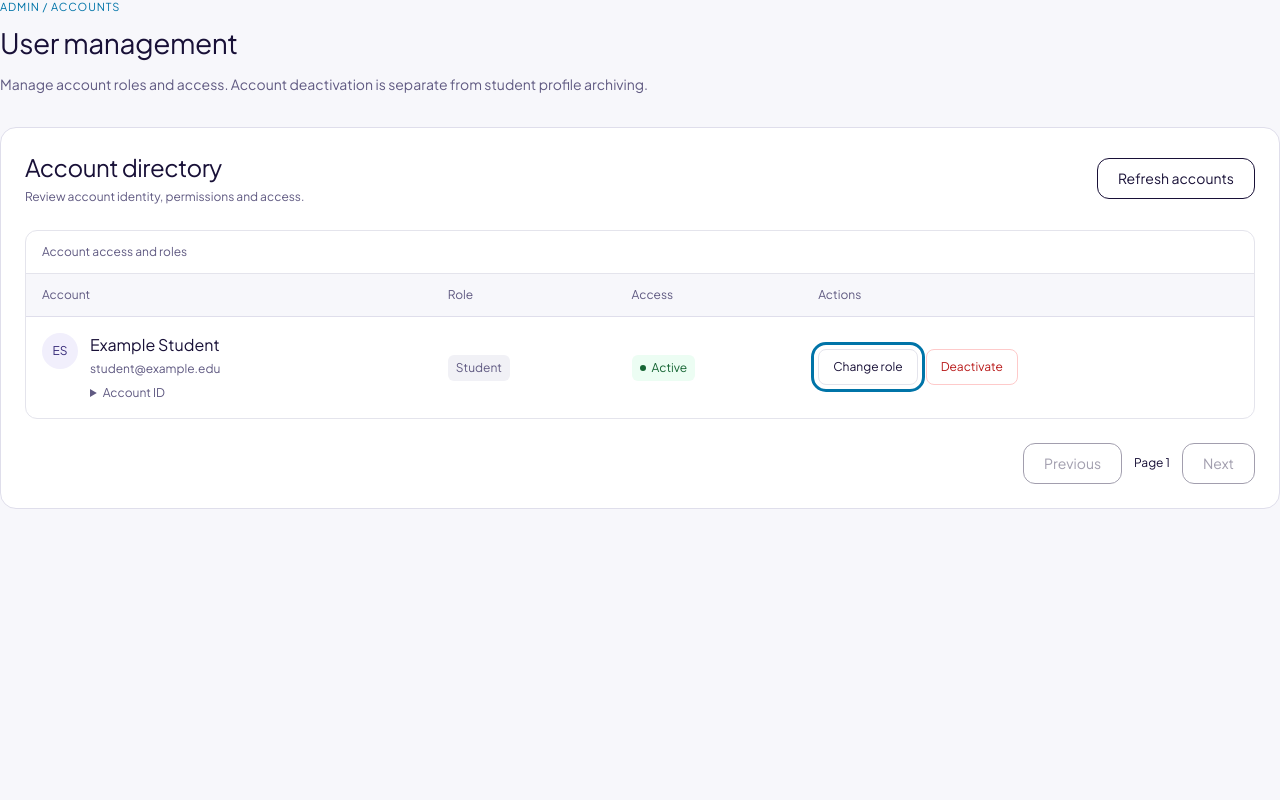
Test: saves a role and refreshes confirmed server state
Click the button "Change role" at (868, 367), box [818,349,918,385]
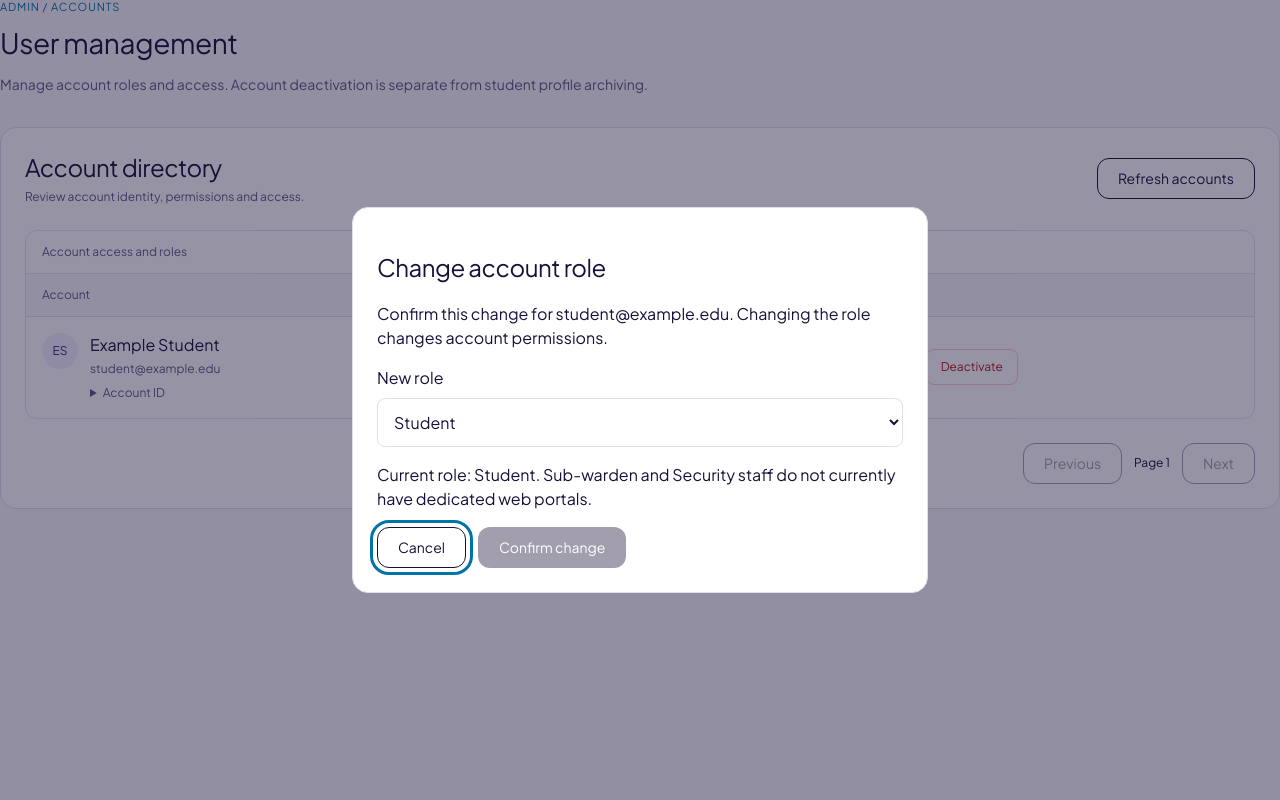
Select "Warden" in the dropdown labelled "New role" at (640, 422), box [377,398,903,447]
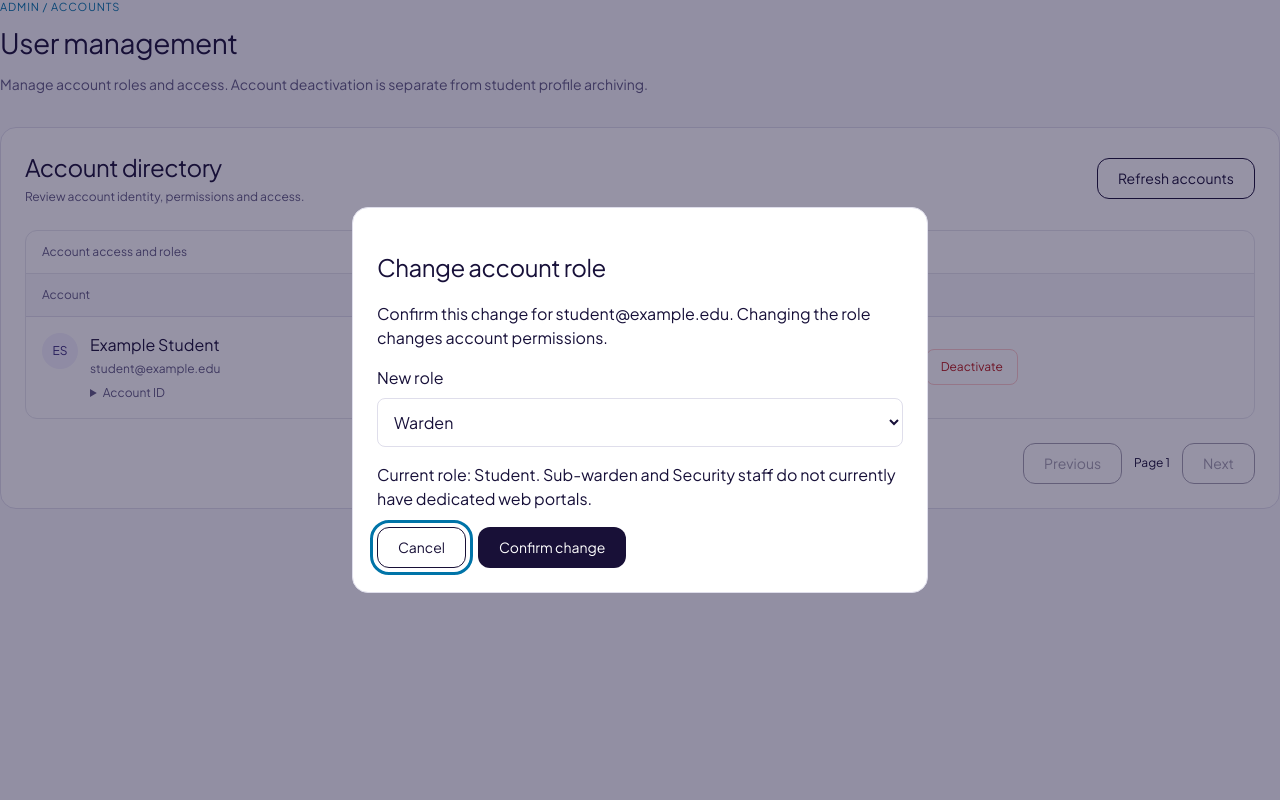
Click the button "Confirm change" at (552, 547), box [478,527,626,568]
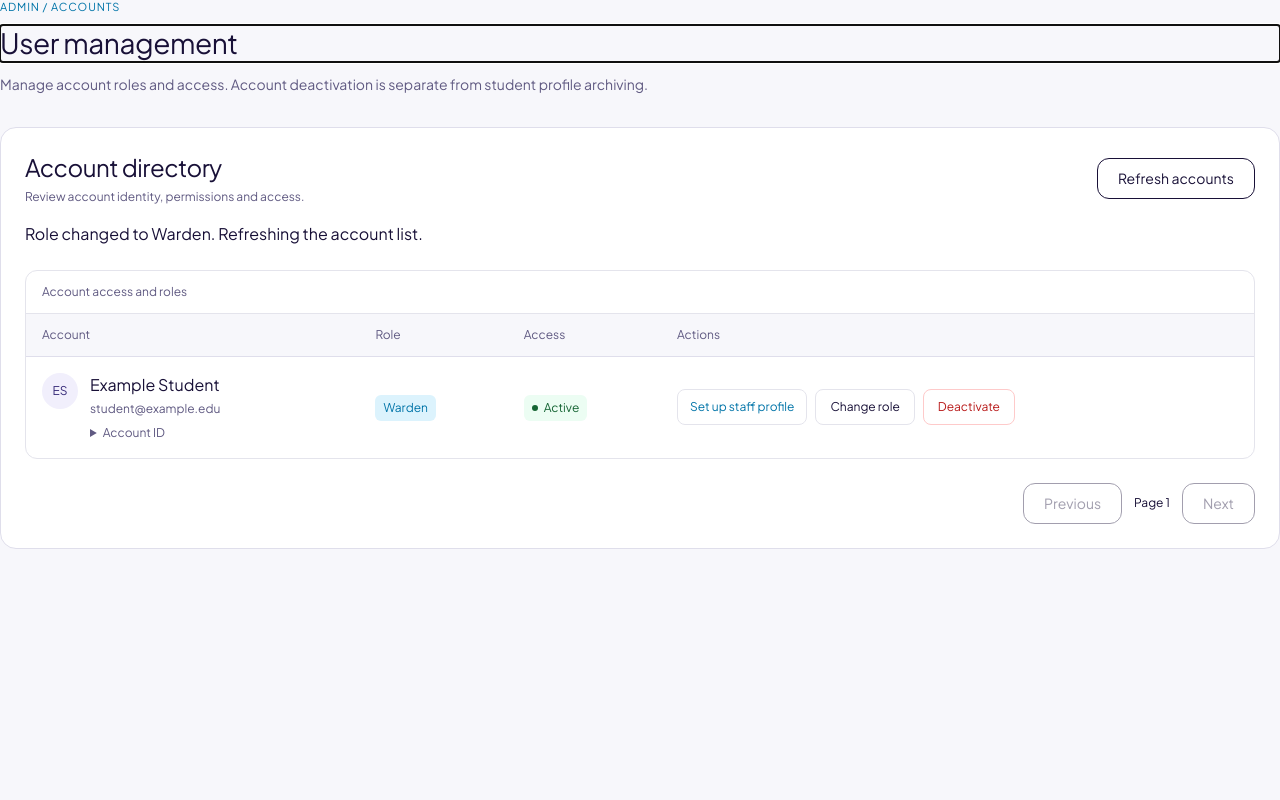
Check: the text "Role changed to Warden. Refreshing the account list." is shown, box [25,223,423,244]
Check: the element named "User accounts" shows "Warden", box [383,400,428,415]
